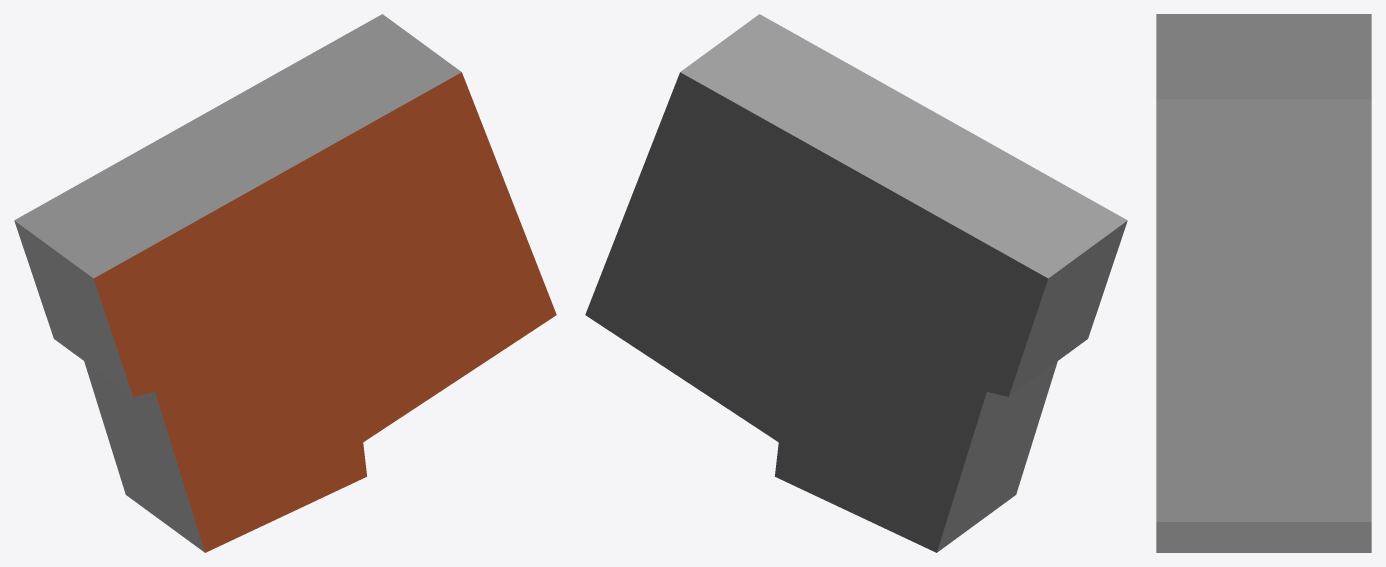
Rendered from construction_2804_assumed_A_Casa_h6m.obj.
The picture shows the model from 3 angles, left to right: view 1: azimuth 30°, elevation 25°; view 2: azimuth 150°, elevation 25°; view 3: azimuth 270°, elevation 25°; orthographic projection. The views are drawn at different scales.
Visible parts, largest first — view 1: construction_2804_assumed_A_Casa; view 2: construction_2804_assumed_A_Casa; view 3: construction_2804_assumed_A_Casa.
Boxes of the visible parts, x1=… form: construction_2804_assumed_A_Casa: x1=14, y1=14, x2=556, y2=552; construction_2804_assumed_A_Casa: x1=585, y1=14, x2=1127, y2=552; construction_2804_assumed_A_Casa: x1=1156, y1=14, x2=1371, y2=552.
Bounding box in the file's own units: 20.19 × 17.42 × 6.
